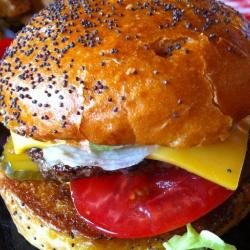burger: (9, 6, 244, 245)
